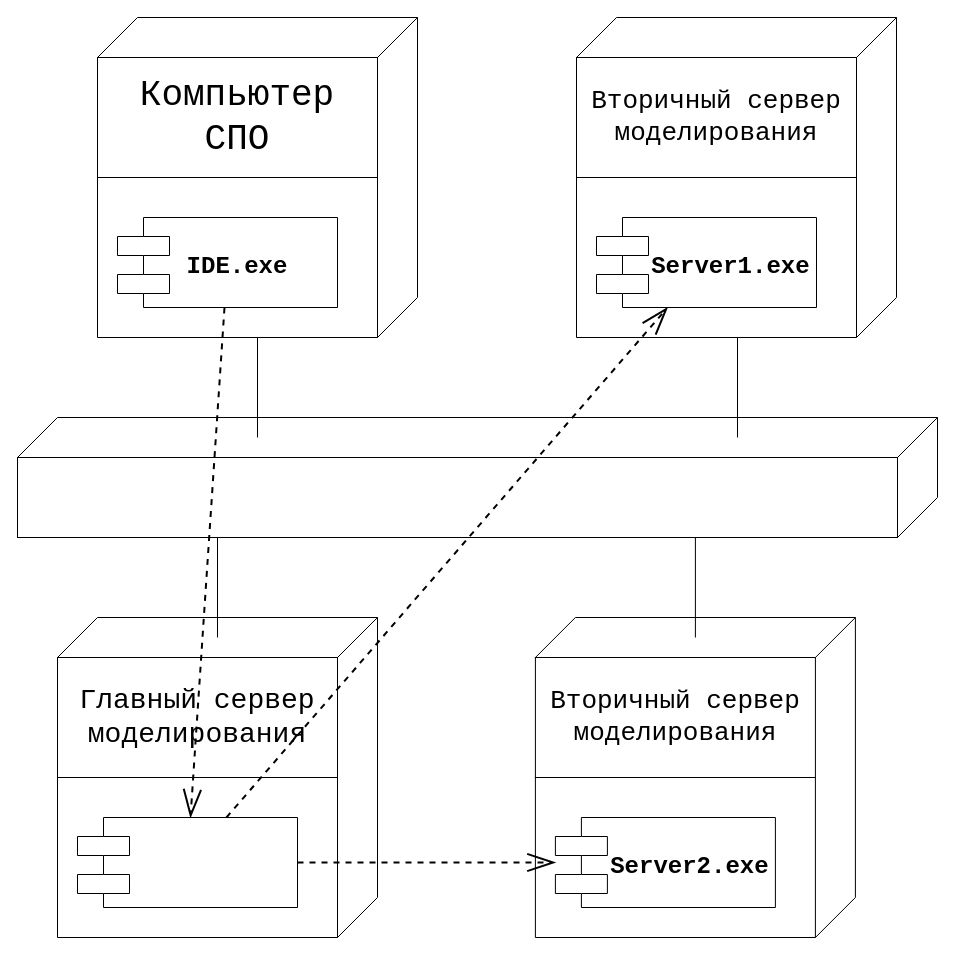
This 956x956 diagram has some shape labels left out. Here are the shapes that lost their labels. From the top down, the centre of each, then its label:
point 457,497: Локальная сеть
point 187,862: Server.exe
